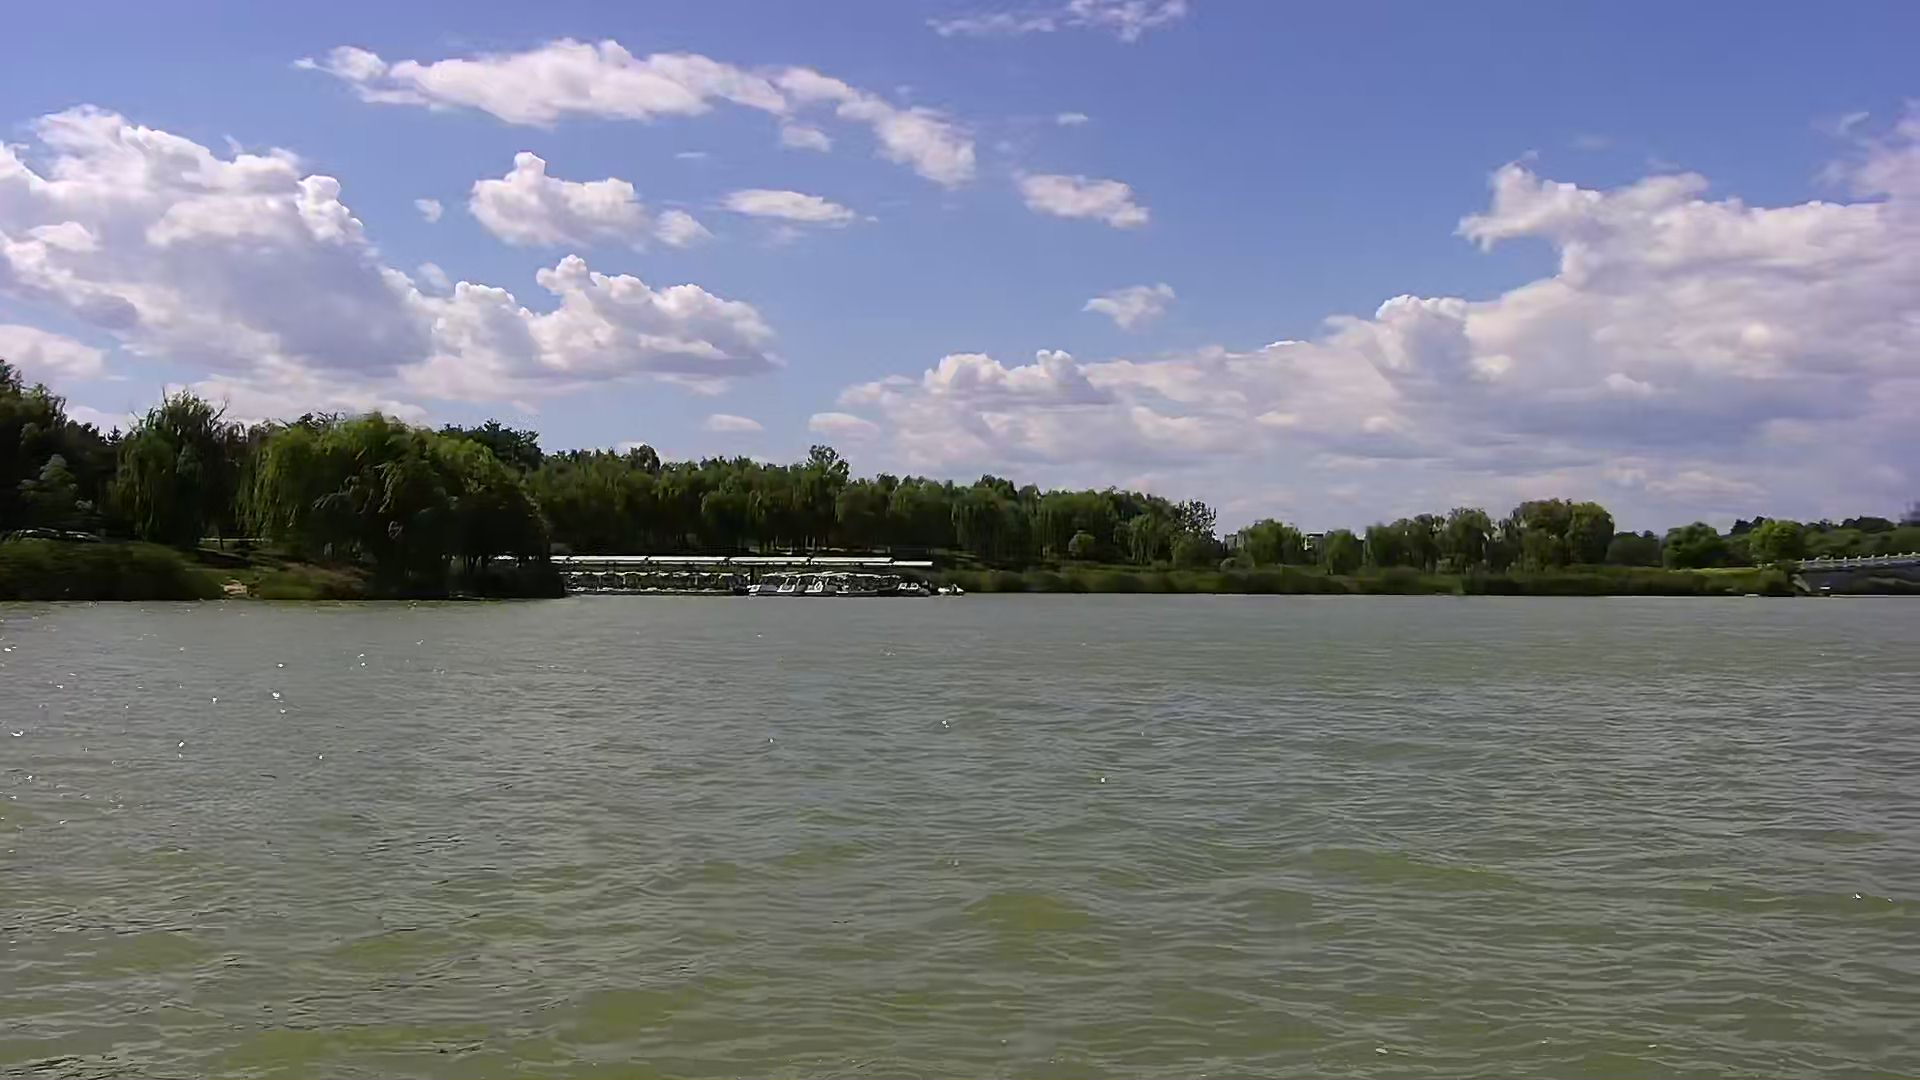harbor: (549, 554, 959, 603)
